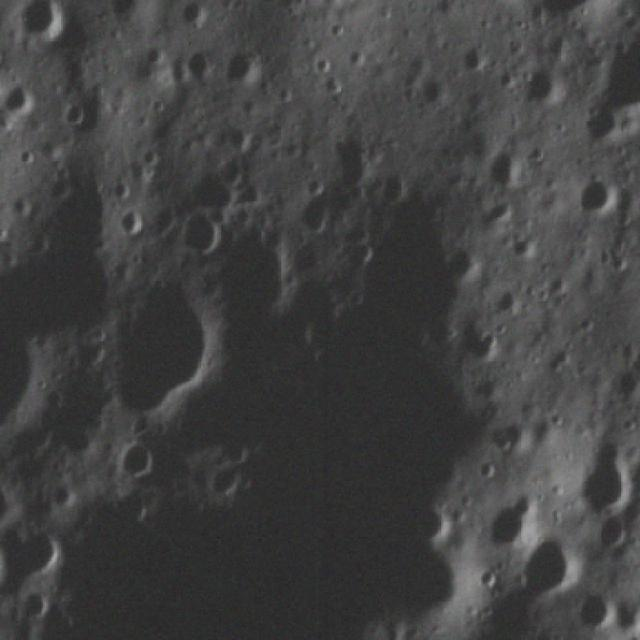crater: (96, 277, 227, 415), (578, 31, 640, 151), (574, 438, 640, 512), (514, 540, 588, 591), (13, 0, 75, 43), (484, 140, 525, 194), (521, 62, 565, 110), (439, 238, 487, 282), (486, 498, 534, 542), (223, 44, 271, 87), (113, 437, 161, 480), (514, 0, 614, 20), (22, 533, 68, 576), (573, 178, 627, 214), (0, 72, 40, 118), (185, 205, 226, 249), (490, 275, 528, 316), (487, 417, 525, 458), (451, 39, 491, 75), (470, 322, 504, 362), (573, 593, 613, 627), (59, 416, 92, 456), (507, 229, 545, 262), (20, 589, 58, 622), (376, 173, 416, 204), (173, 0, 212, 31), (303, 193, 331, 236), (200, 472, 246, 498), (598, 512, 632, 546), (182, 50, 216, 82), (216, 438, 258, 462), (224, 123, 256, 154), (612, 365, 640, 398), (56, 100, 90, 126), (417, 76, 449, 102), (120, 206, 145, 239), (353, 238, 381, 265), (379, 614, 408, 640), (110, 176, 135, 202), (346, 286, 371, 312), (50, 483, 76, 508), (604, 249, 631, 273), (323, 18, 352, 39), (350, 41, 372, 67), (17, 144, 40, 167), (275, 83, 299, 105), (10, 195, 35, 216), (312, 51, 334, 74), (138, 144, 160, 167), (0, 532, 6, 596), (150, 98, 172, 114), (0, 223, 12, 242), (0, 41, 6, 68), (544, 638, 588, 640), (0, 602, 2, 622)
